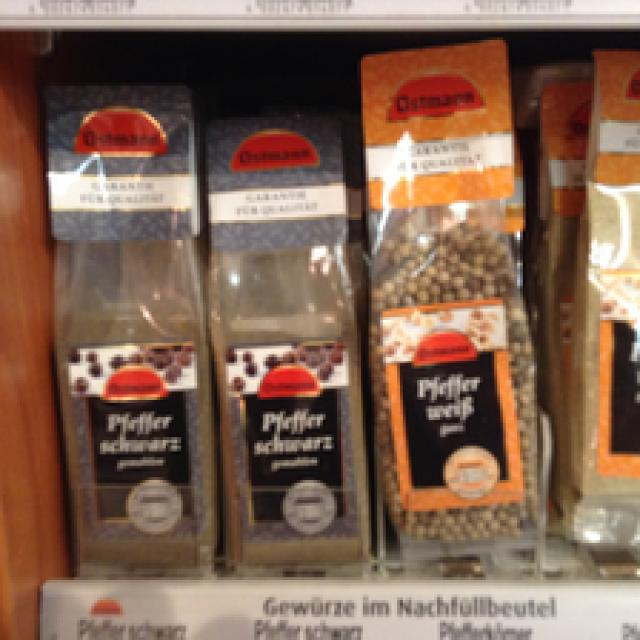groceries: (357, 34, 537, 563), (40, 75, 214, 574), (197, 97, 366, 566)
